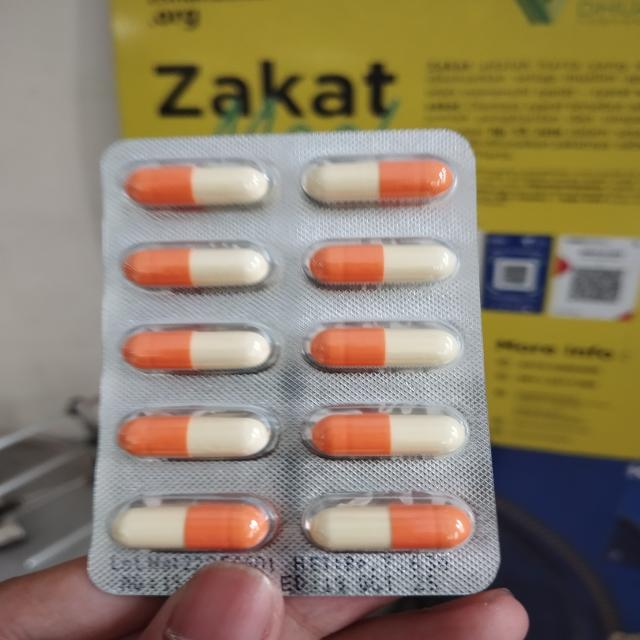B3: (84, 130, 499, 598)
